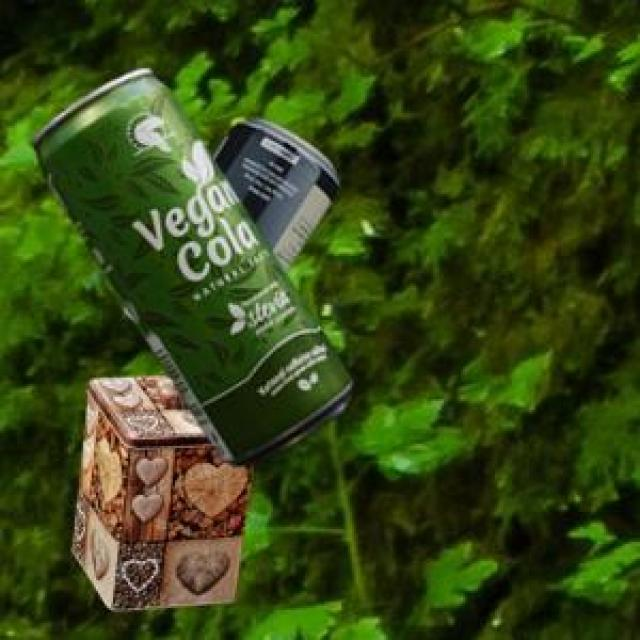Can: (29, 65, 349, 464), (69, 372, 249, 607), (210, 116, 336, 270)
